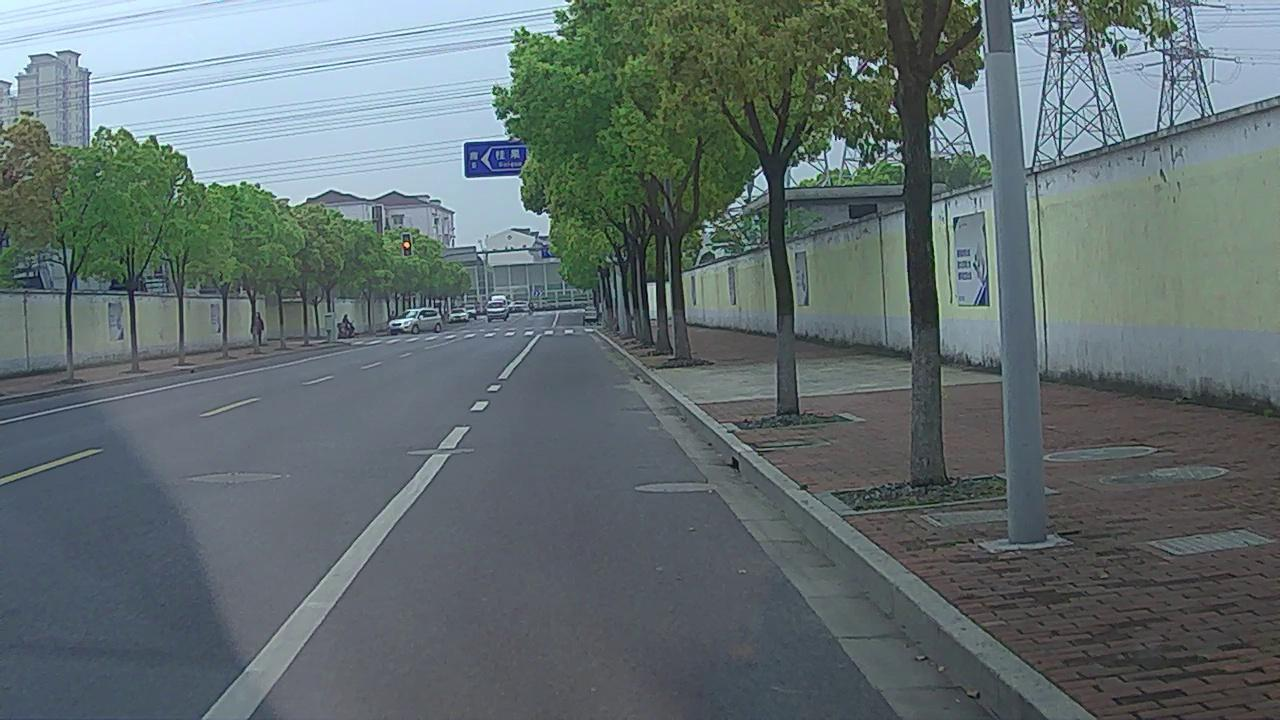traffic_light: (404, 233, 411, 256)
